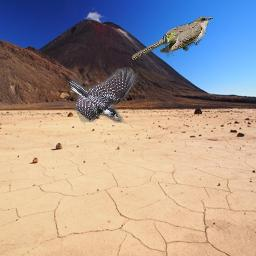Cuckoo: (131, 16, 213, 60)
Woodpecker: (70, 67, 137, 123)
